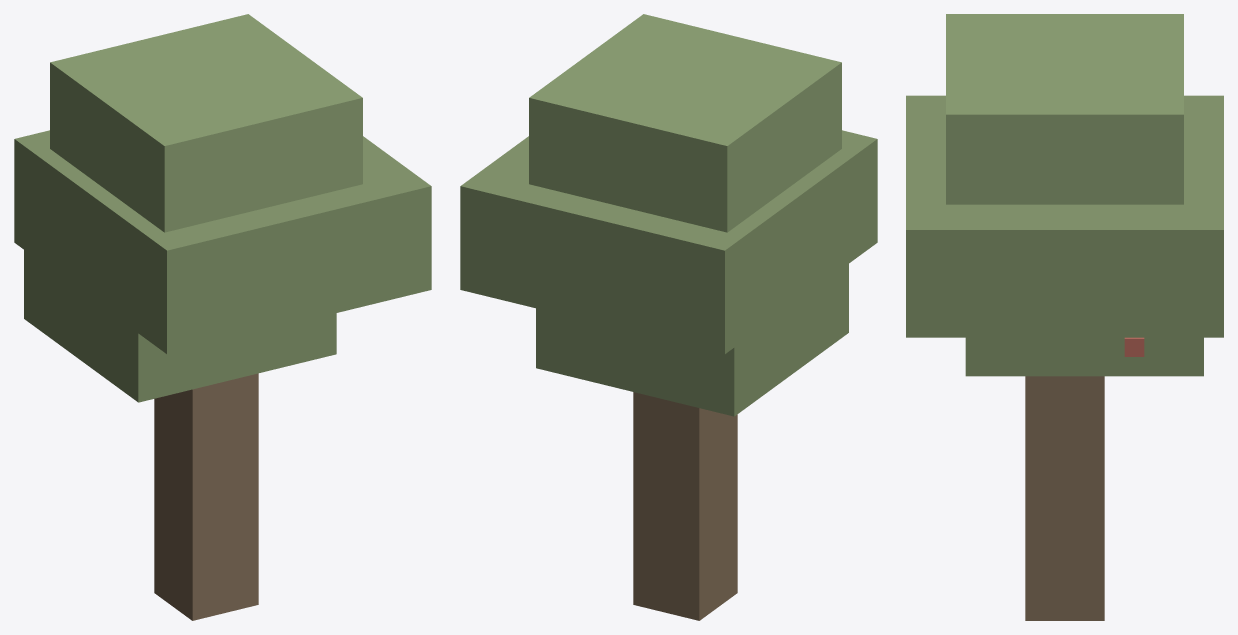
The model's file is avellana_silvestre_05.glb.
3 views of the same model, side by side, from view 1: azimuth 30°, elevation 25°; view 2: azimuth 150°, elevation 25°; view 3: azimuth 270°, elevation 25° (orthographic). The views are drawn at different scales.
Parts seen in each view (by area): view 1: avellana_silvestre_05; view 2: avellana_silvestre_05; view 3: avellana_silvestre_05.
Boxes of the visible parts, x1,y1,x2,y2 form: avellana_silvestre_05: (14, 14, 431, 620); avellana_silvestre_05: (460, 14, 877, 620); avellana_silvestre_05: (906, 14, 1223, 620).
Size of the model in its own units: 1.6 by 3 by 1.6.
